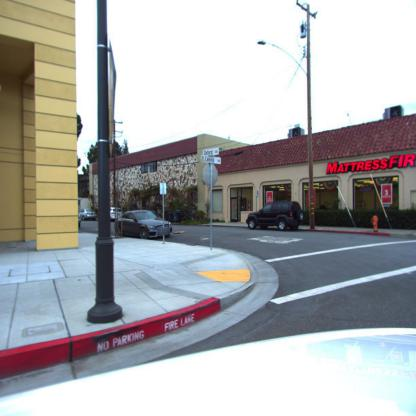car: (120, 209, 173, 240), (79, 209, 97, 221), (110, 207, 122, 221)
fire hydrant: (371, 214, 379, 233)
stop sign: (201, 164, 218, 186)
truck: (246, 200, 304, 231)
